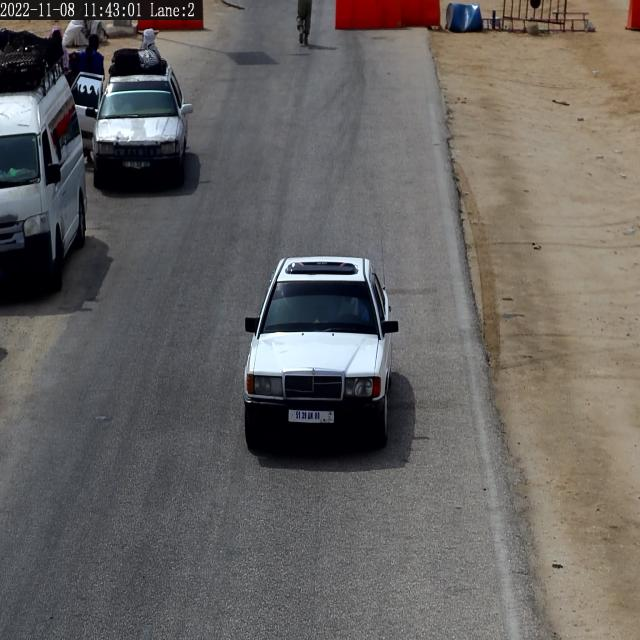BUS: (289, 410, 333, 423), (123, 161, 150, 168)
